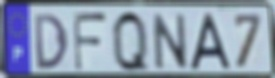7: (233, 12, 264, 71)
A: (187, 11, 234, 72)
D: (32, 13, 71, 72)
F: (71, 10, 110, 74)
N: (150, 11, 190, 72)
Q: (110, 8, 152, 75)
